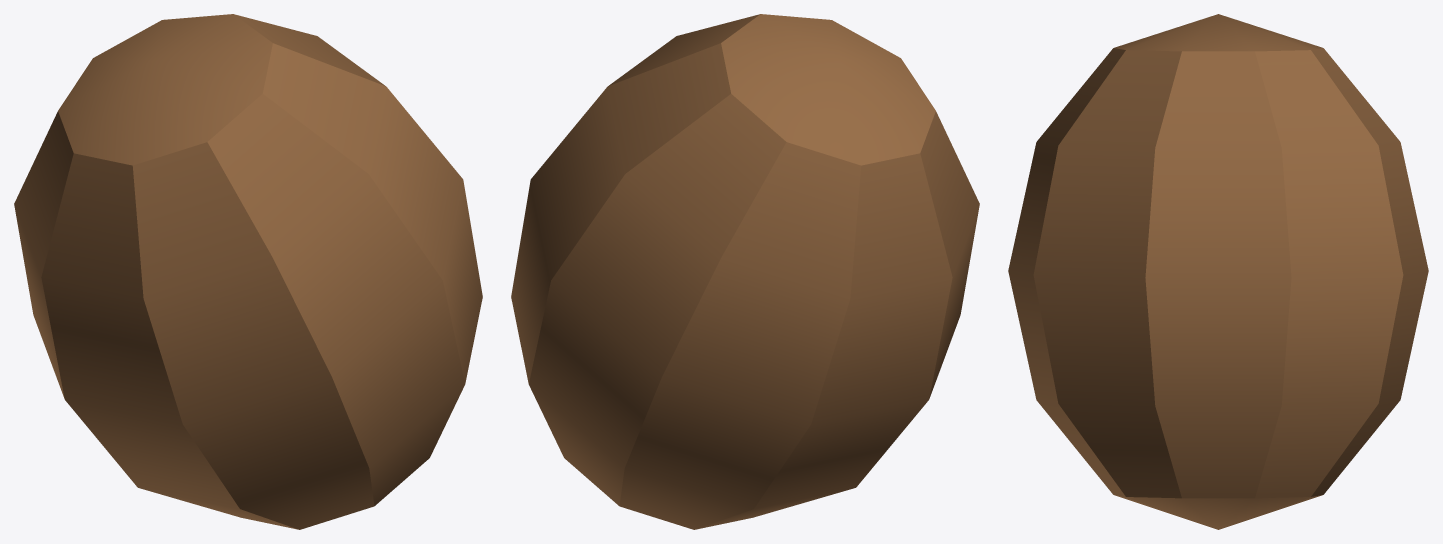
The model's file is coconut_002.glb.
The picture shows the model from 3 angles, left to right: view 1: azimuth 30°, elevation 25°; view 2: azimuth 150°, elevation 25°; view 3: azimuth 270°, elevation 25°; orthographic projection. The views are drawn at different scales.
Visible parts, largest first — view 1: coconut.002; view 2: coconut.002; view 3: coconut.002.
Part boxes in pixels (bbox=[...]): coconut.002: bbox=[14, 14, 482, 529]; coconut.002: bbox=[511, 14, 979, 529]; coconut.002: bbox=[1008, 14, 1428, 529].
Size of the model in its own units: 0.3053 by 0.3483 by 0.2975.
1 material, 1 textured.
